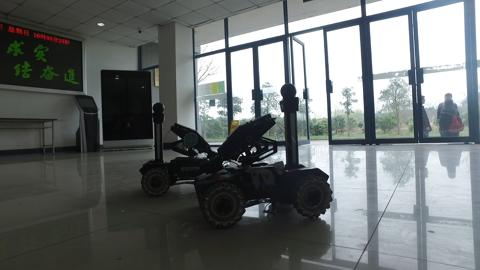chariot: (196, 82, 332, 229), (136, 101, 222, 197)
